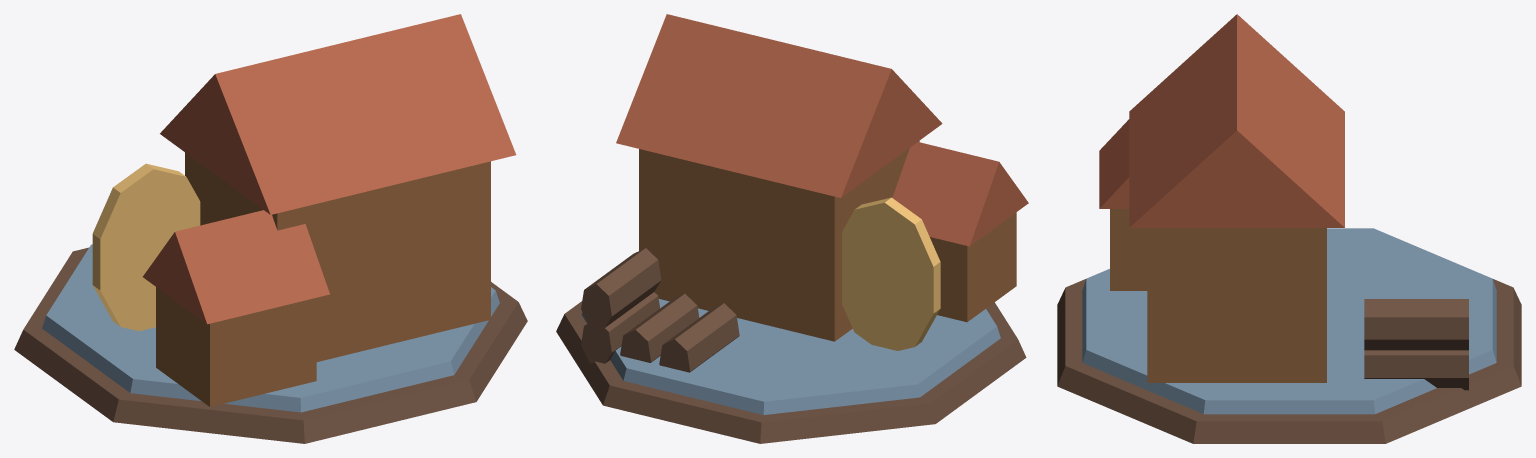
The model's file is Sawmill_2.fbx.
The picture shows the model from 3 angles, left to right: view 1: azimuth 30°, elevation 25°; view 2: azimuth 150°, elevation 25°; view 3: azimuth 270°, elevation 25°; orthographic projection. The views are drawn at different scales.
Visible parts, largest first — view 1: Sawmill_2; view 2: Sawmill_2; view 3: Sawmill_2.
Part boxes in pixels (x1,y1,x2,y2): Sawmill_2: (14, 14, 527, 443); Sawmill_2: (556, 14, 1028, 443); Sawmill_2: (1057, 14, 1521, 443).
Size of the model in its own units: 2.9 by 2.02 by 2.9.
